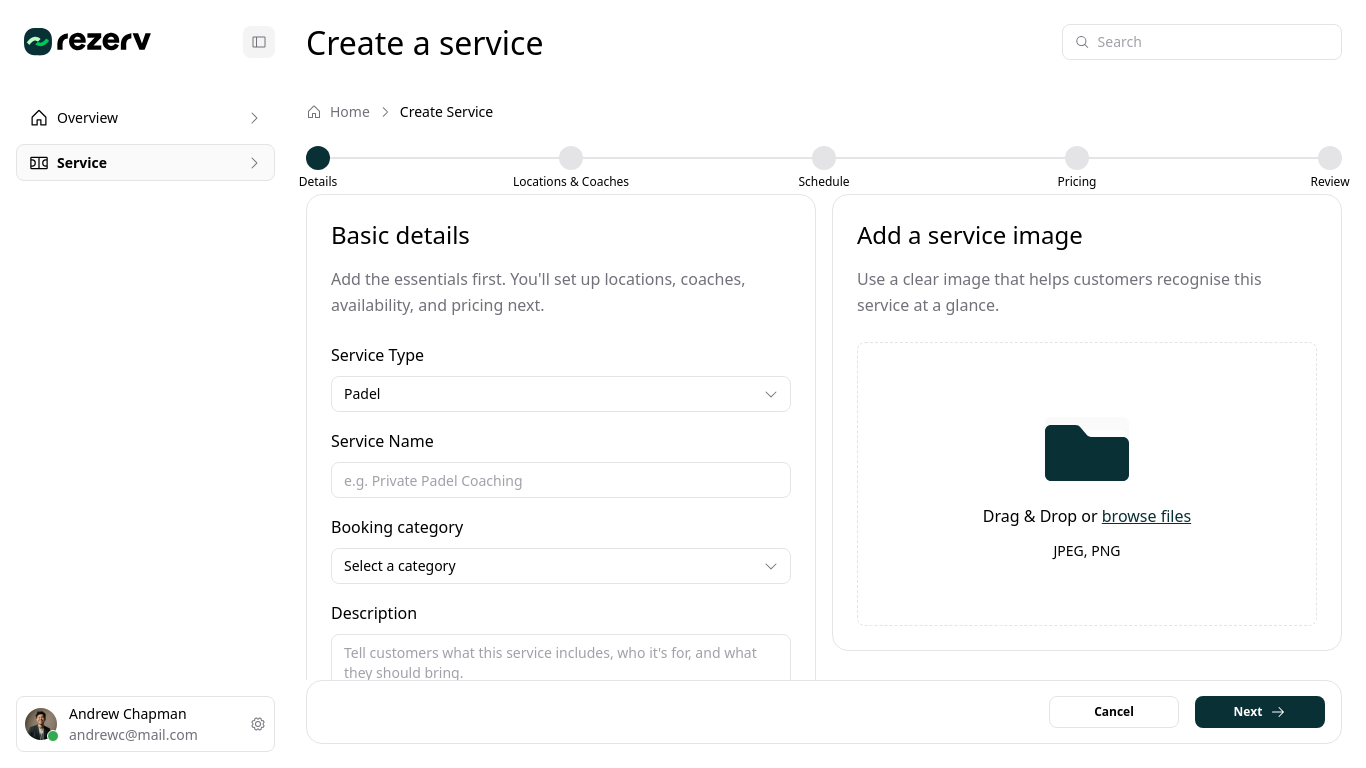
Test: shows an inline error when Next is clicked with an empty service name
Check: the field labelled "Service Name" is shown, box [331,462,791,498]
Click the button "Next".
click(1260, 712)  # box [1195,696,1325,728]
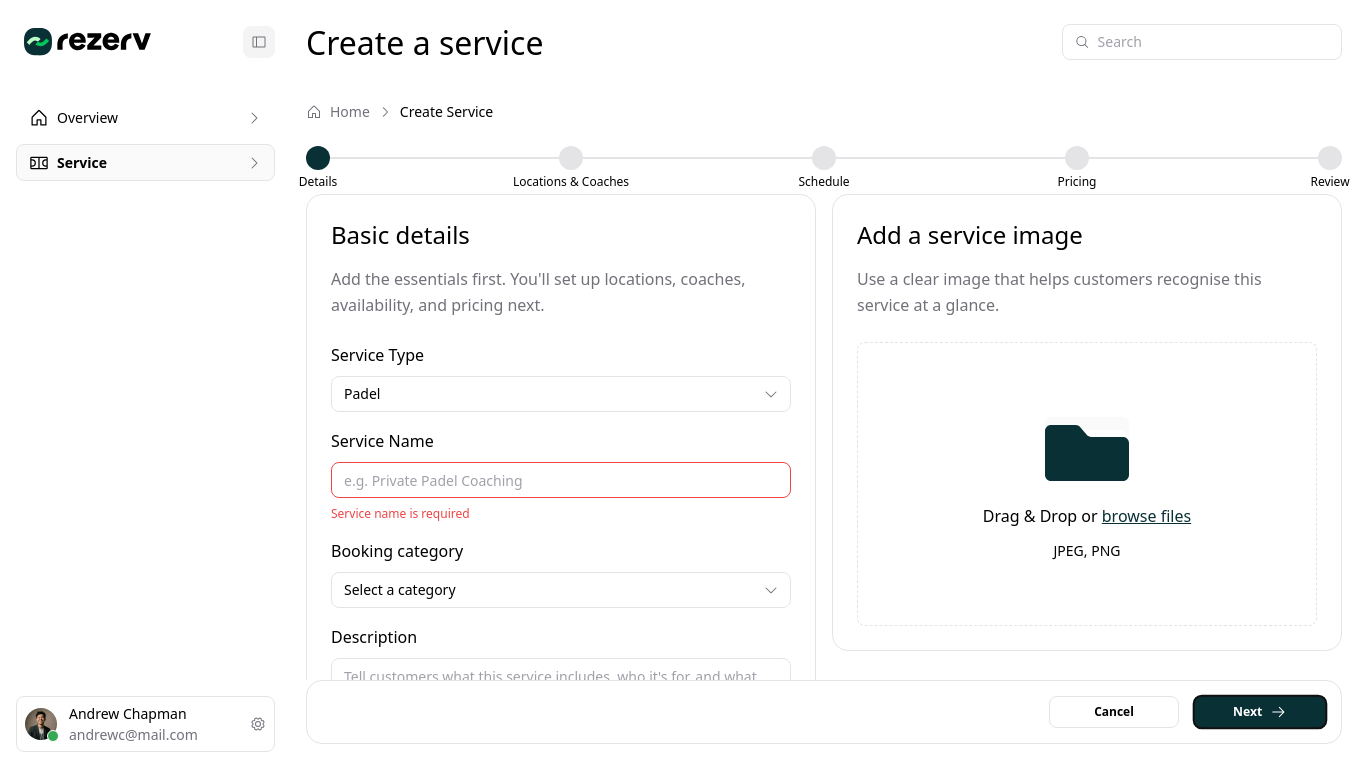
Check: the text "Service name is required" is shown, box [331,505,470,522]
